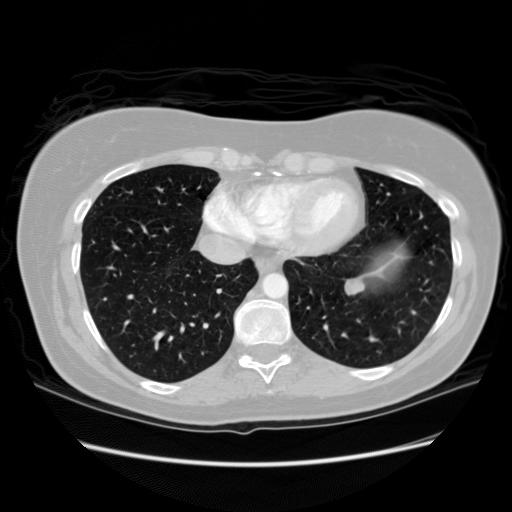nodule: (342, 275, 365, 298)
